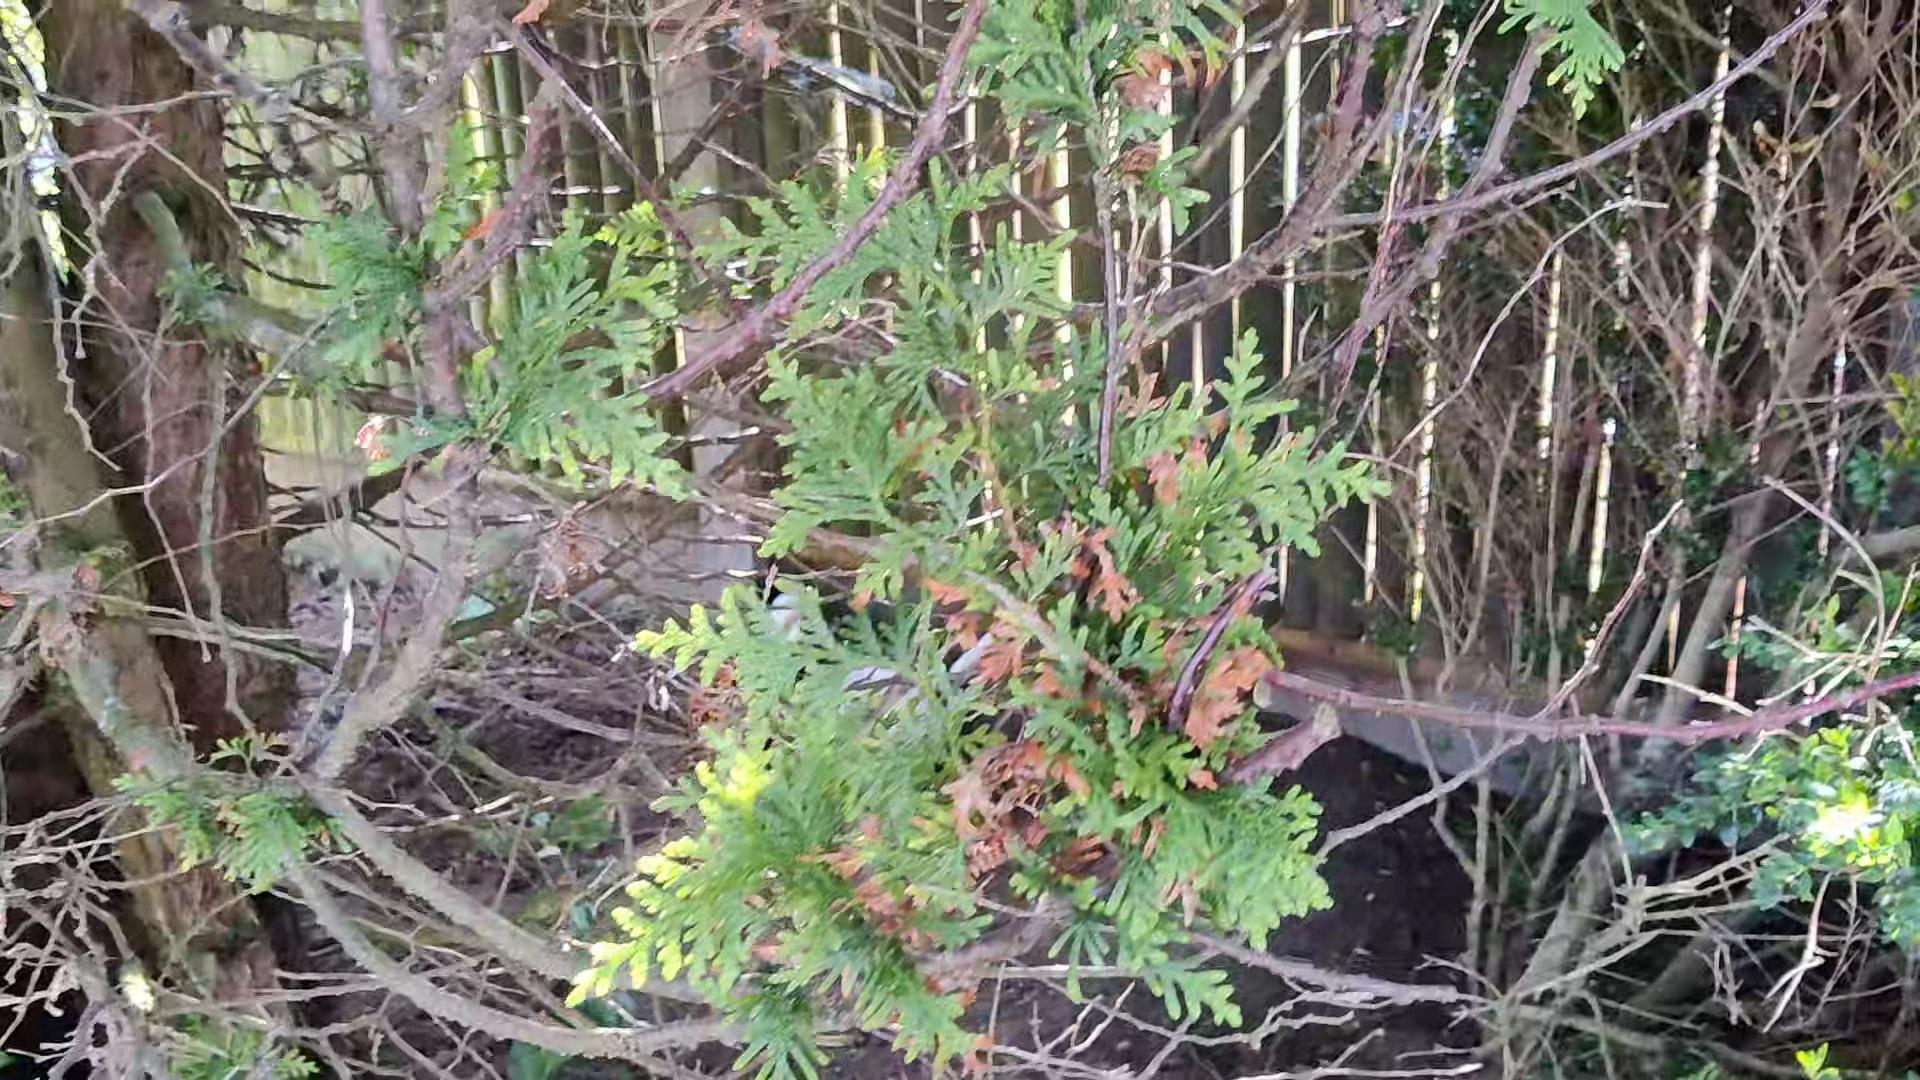Dog: (746, 562, 1033, 737)
